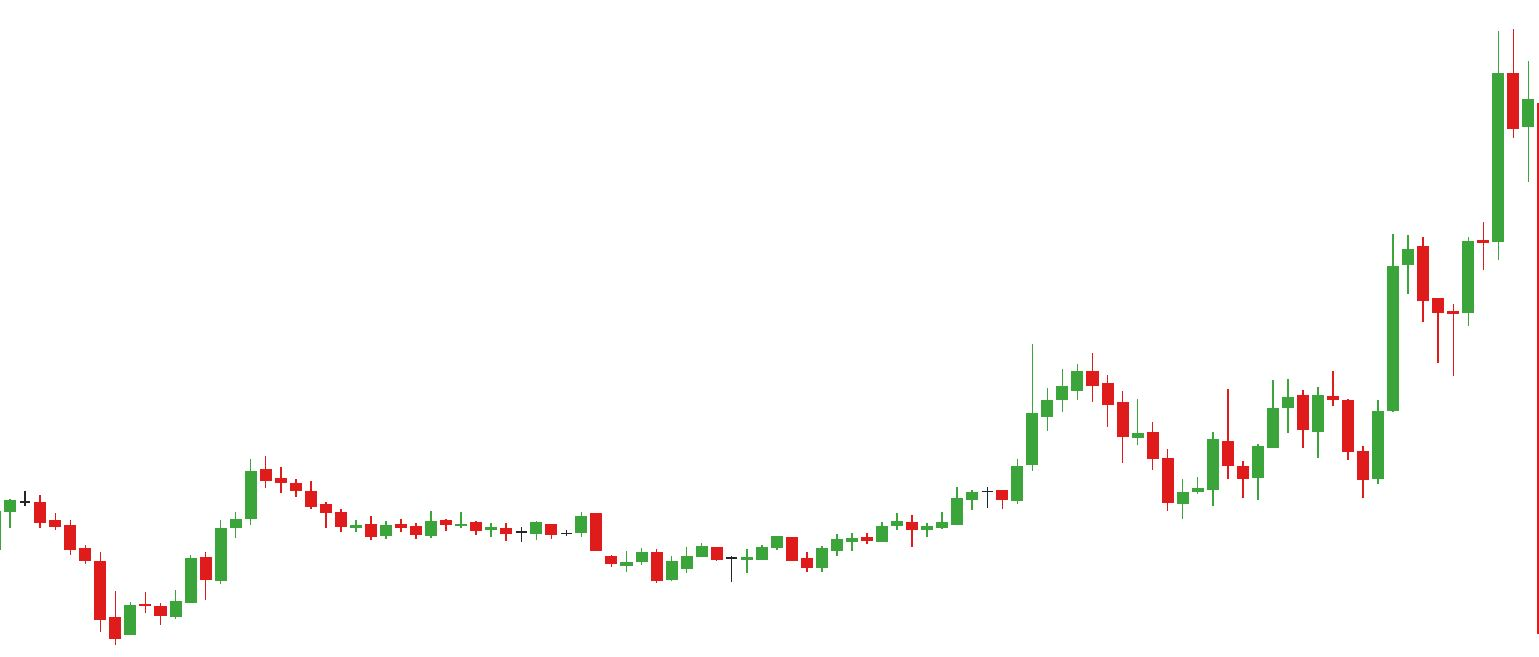buy: (995, 419, 1190, 522)
